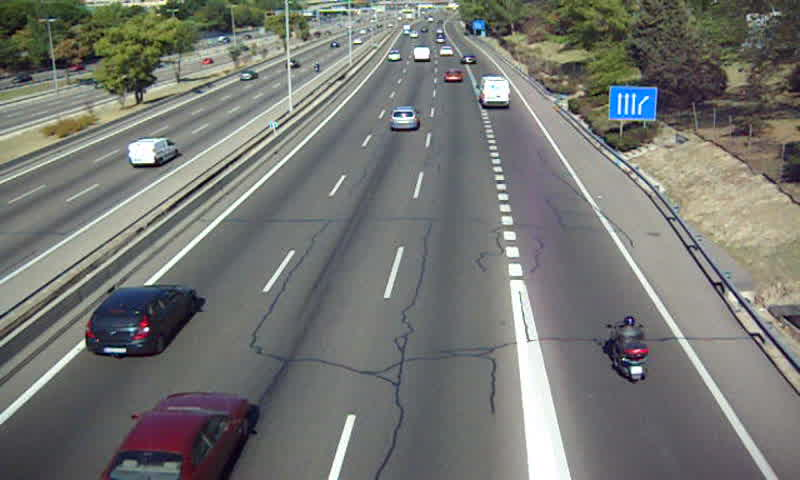car: (96, 393, 251, 480), (83, 285, 194, 356), (387, 106, 420, 133), (441, 67, 463, 84), (460, 52, 478, 66), (388, 50, 402, 63), (440, 45, 454, 57)
motorcycle: (607, 315, 648, 383)
van: (479, 75, 510, 107), (412, 46, 429, 62)
